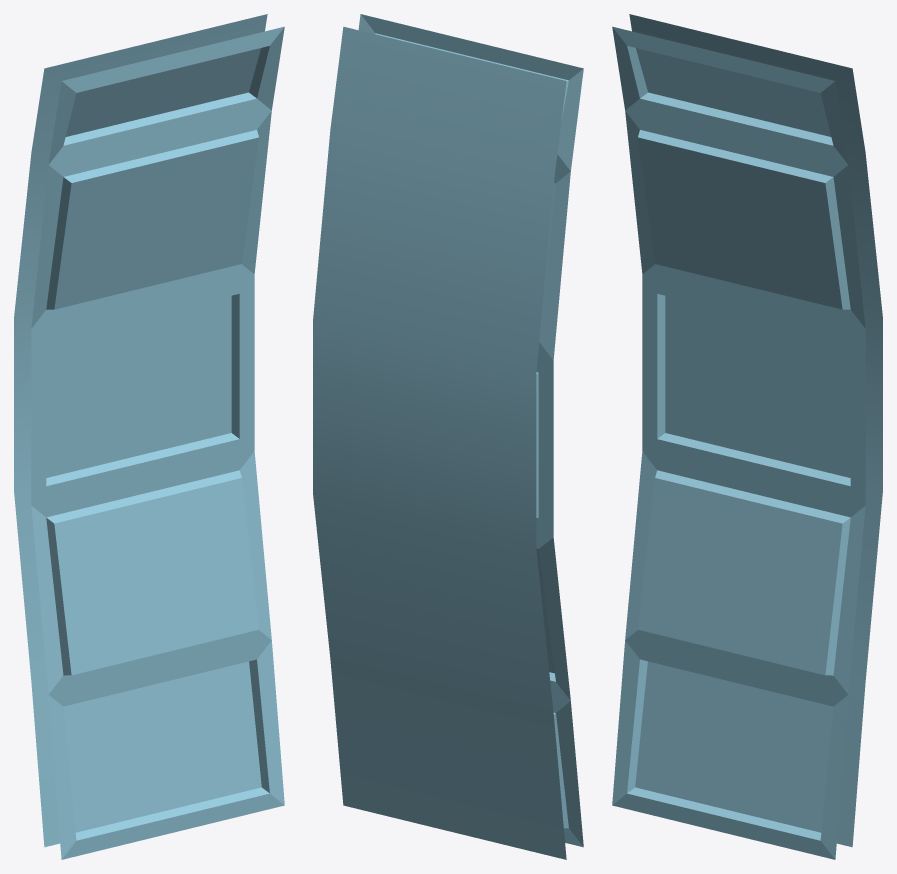
File: sidewallBaseHalfB.FBX
3 views of the same model, side by side, from view 1: azimuth 30°, elevation 25°; view 2: azimuth 150°, elevation 25°; view 3: azimuth 330°, elevation 25° (orthographic).
Visible parts, largest first — view 1: sidewallBaseHalfB; view 2: sidewallBaseHalfB; view 3: sidewallBaseHalfB.
Part boxes in pixels (box(x1,y1,x2,y2)): sidewallBaseHalfB: box(14, 14, 284, 859); sidewallBaseHalfB: box(313, 14, 583, 859); sidewallBaseHalfB: box(612, 14, 882, 859).
Size of the model in its own units: 0.75 by 2.5 by 0.2757.
